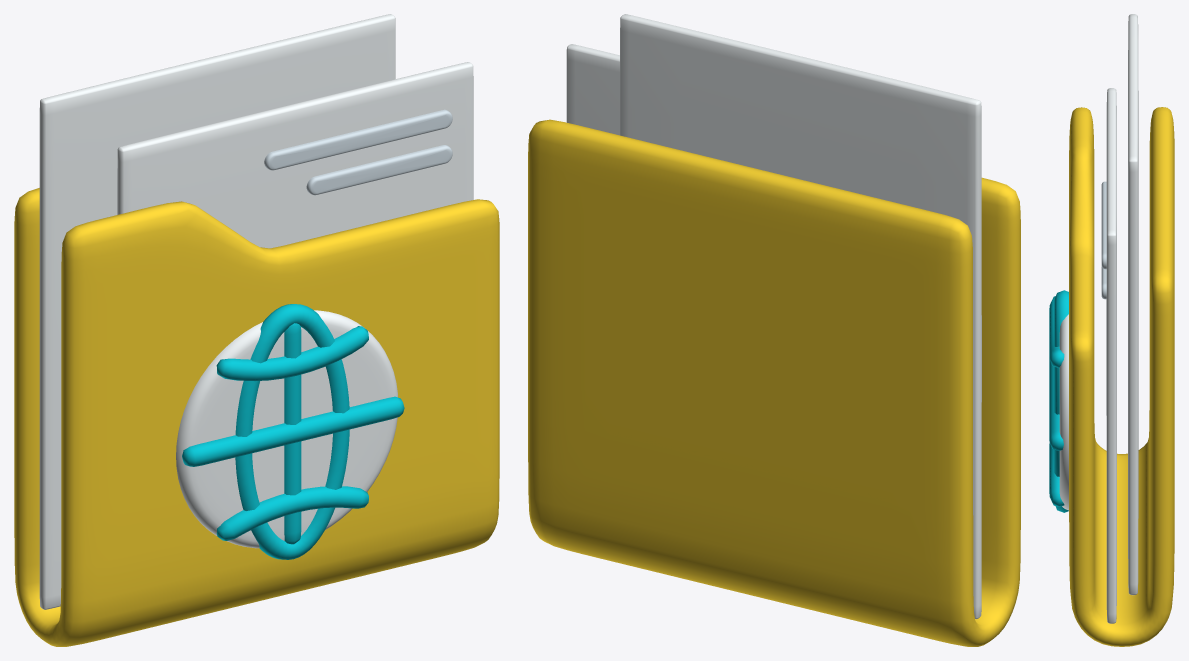
The model's file is docs.fbx.
3 renders of one model, left to right at view 1: azimuth 30°, elevation 25°; view 2: azimuth 150°, elevation 25°; view 3: azimuth 270°, elevation 25°, orthographic. The views are drawn at different scales.
Visible parts, largest first — view 1: Plane.066, Plane.064, Plane.065, Cylinder.067, Circle.003, Vert.005, Cylinder.066, Circle.004, Circle.002, Vert.004, Cylinder.065; view 2: Plane.066, Plane.064, Plane.065; view 3: Plane.066, Plane.064, Plane.065, Cylinder.067, Circle.003, Vert.005, Circle.004, Cylinder.066, Circle.002.
Boxes of the visible parts, left/top/right/bottom form: Plane.066: left=14, top=188, right=499, bottom=646; Plane.064: left=39, top=14, right=395, bottom=609; Plane.065: left=117, top=62, right=473, bottom=248; Cylinder.067: left=176, top=310, right=397, bottom=548; Circle.003: left=235, top=304, right=349, bottom=559; Vert.005: left=182, top=396, right=404, bottom=466; Cylinder.066: left=264, top=109, right=452, bottom=170; Circle.004: left=216, top=326, right=368, bottom=380; Circle.002: left=216, top=486, right=368, bottom=540; Vert.004: left=284, top=323, right=301, bottom=544; Cylinder.065: left=306, top=145, right=452, bottom=195; Plane.066: left=528, top=119, right=1020, bottom=646; Plane.064: left=620, top=14, right=981, bottom=619; Plane.065: left=566, top=44, right=619, bottom=135; Plane.066: left=1069, top=107, right=1174, bottom=646; Plane.064: left=1128, top=14, right=1138, bottom=595; Plane.065: left=1106, top=88, right=1116, bottom=623; Cylinder.067: left=1059, top=314, right=1068, bottom=510; Circle.003: left=1054, top=290, right=1068, bottom=512; Vert.005: left=1049, top=359, right=1063, bottom=450; Circle.004: left=1049, top=296, right=1064, bottom=368; Cylinder.066: left=1101, top=181, right=1106, bottom=269; Circle.002: left=1049, top=443, right=1064, bottom=506.
Bounding box in the file's own units: 399 × 474 × 117.
